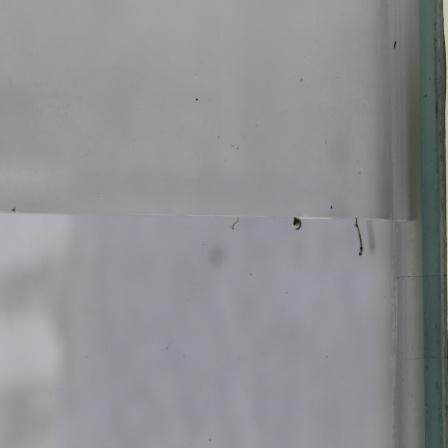Jentik-Nyamuk: (348, 214, 368, 259), (289, 213, 304, 236)
